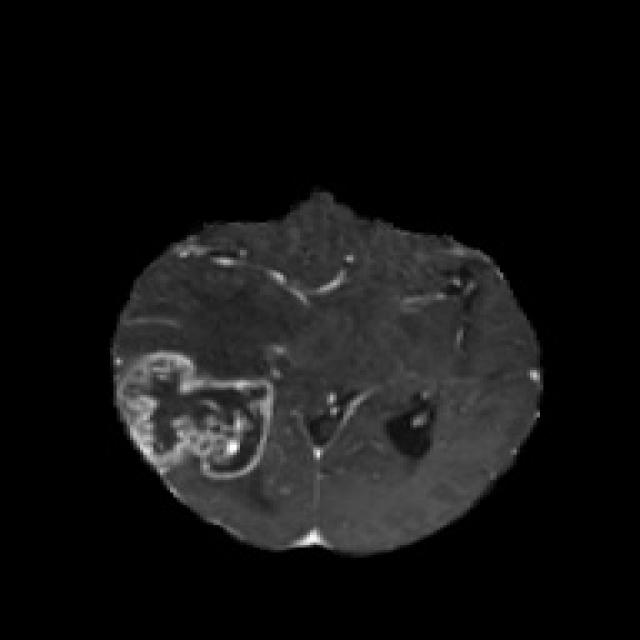negative: (128, 350, 275, 478)
